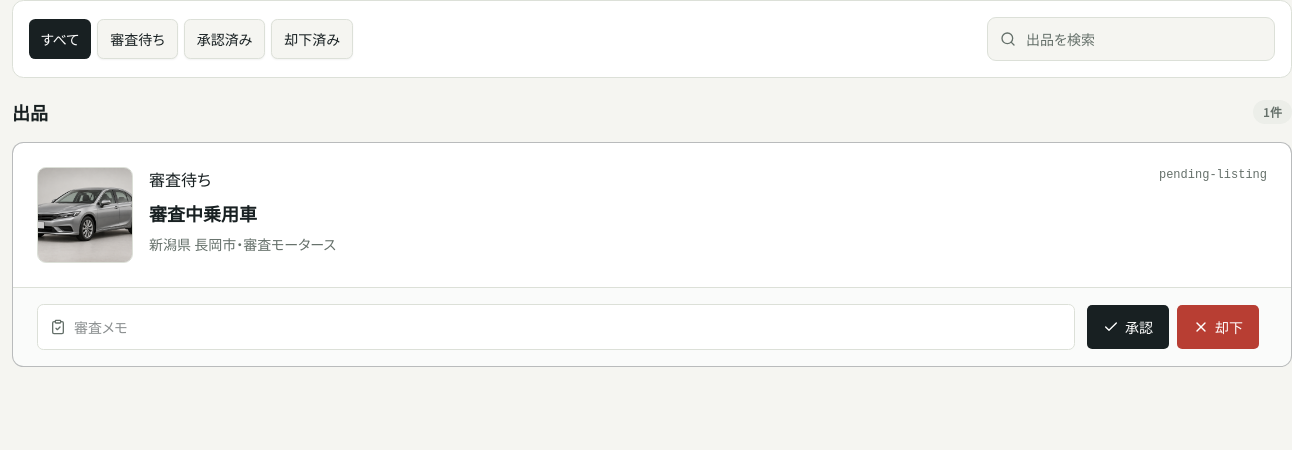
Scenario: AdminQueue › keeps the current filter and data when a refresh fails
Click the button "承認済み" at (225, 39), box left=184, top=19, right=265, bottom=59
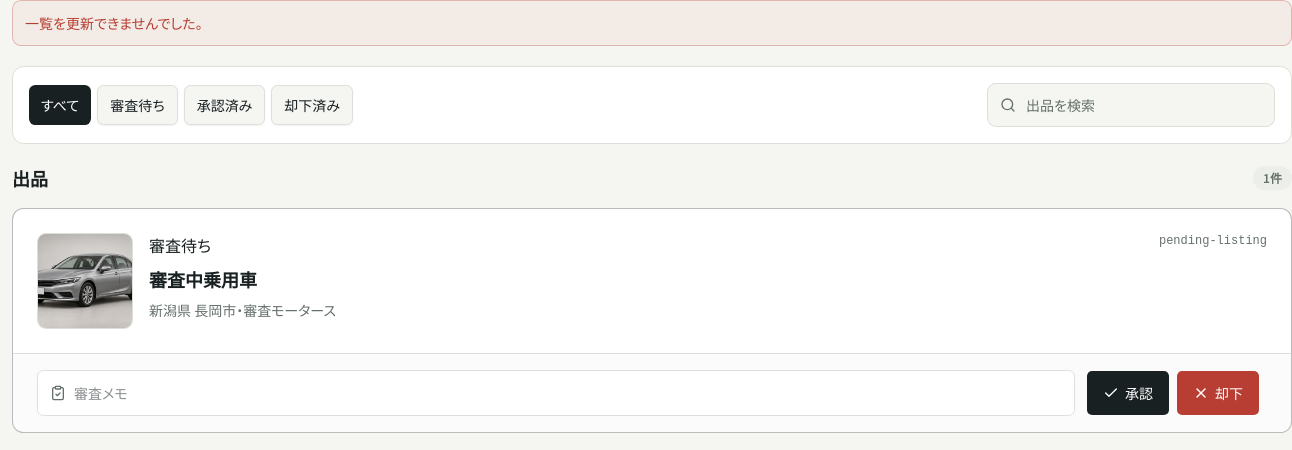
Expected: the heading "審査中乗用車" is shown, left=149, top=266, right=257, bottom=292
Now the message reads "一覧を更新できませんでした。", box left=25, top=13, right=203, bottom=33
